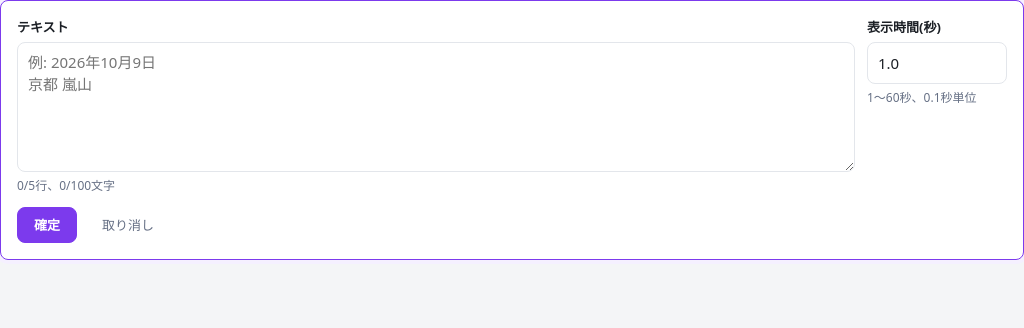
Scenario: 空のテキストで「確定」を押すと「テキストを入力してください」が表示される
Click the button "確定" at coordinates (47, 226), box [17,208,77,244]
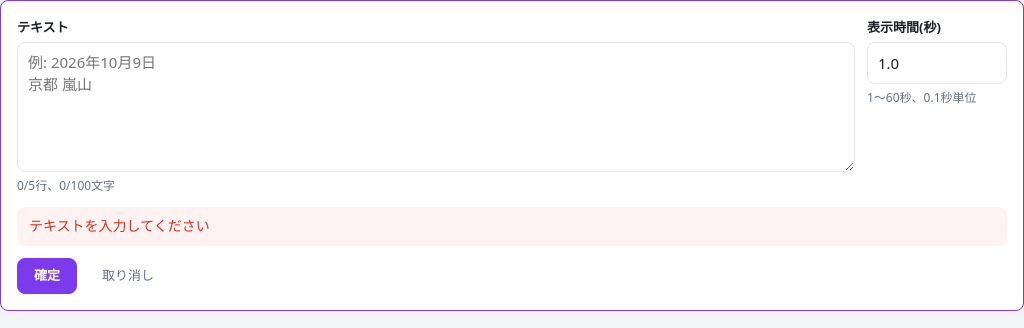
Now the text "テキストを入力してください" is shown, box [17,208,1007,246]
